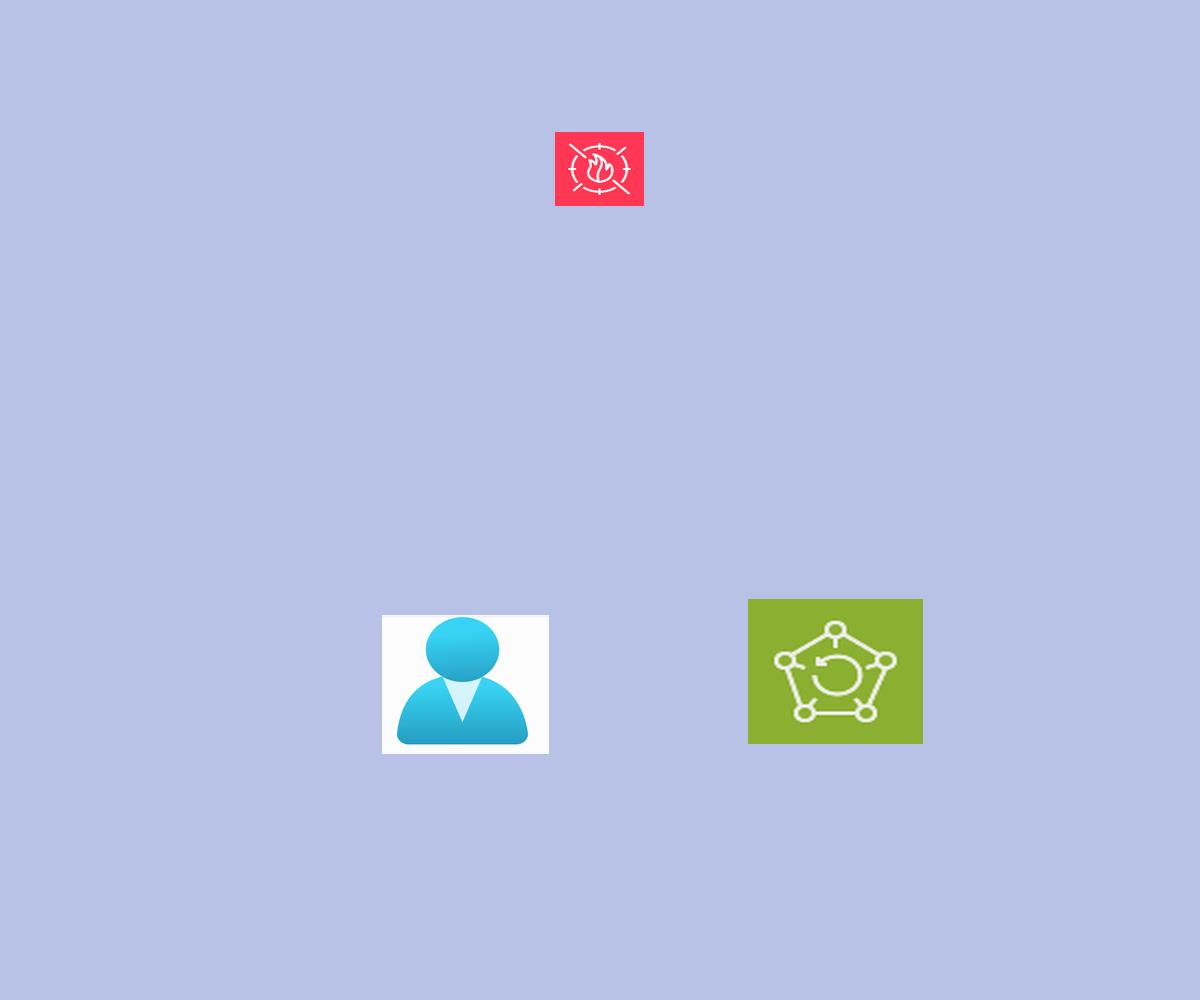AWS-Backup: (748, 599, 923, 744)
AWS-WAF: (555, 132, 644, 206)
Azure_users: (382, 615, 549, 754)
